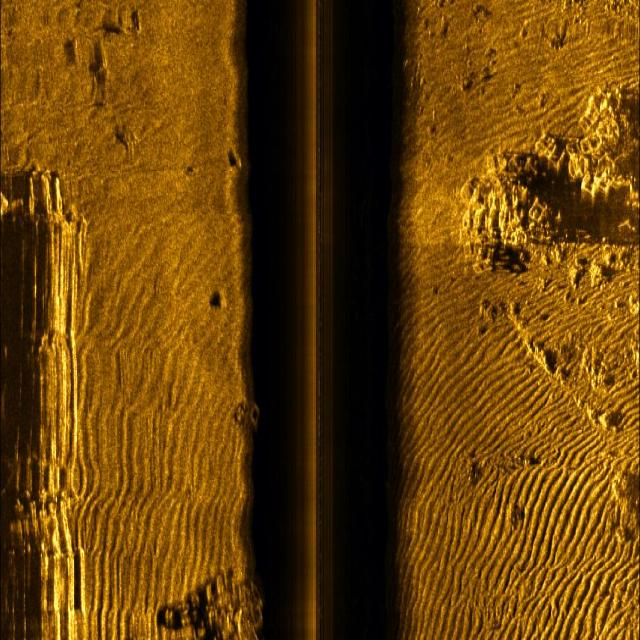artificial reef: (456, 90, 632, 269), (172, 564, 273, 640), (229, 391, 268, 441)
